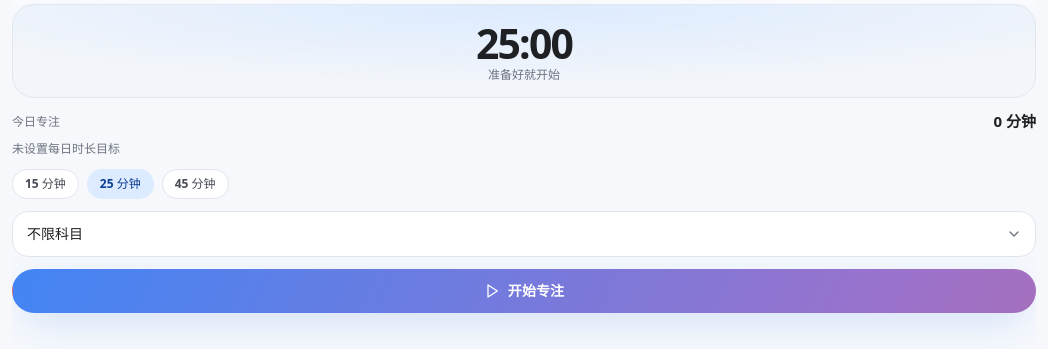
Scenario: FocusTile 记录真实时长 › 没点记录之前一次请求都不发，计时状态落盘
This screenshot has width=1048, height=349.
Click the button "开始专注": x=524, y=291 [12,269,1036,313]
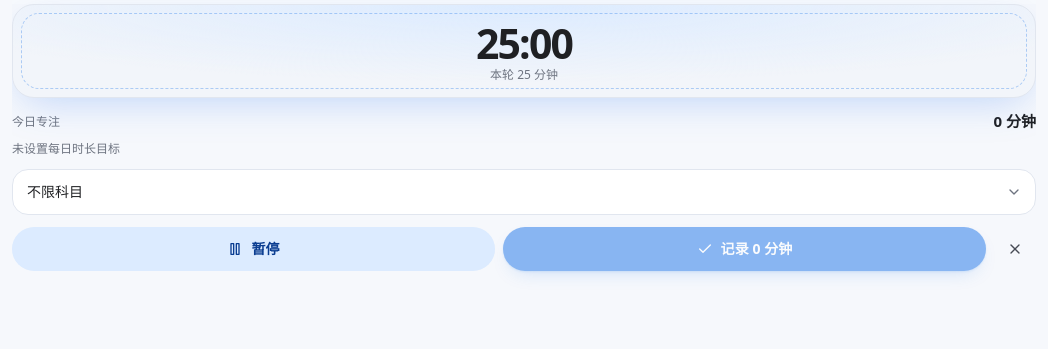
Now the button "记录 0 分钟" is disabled, box [503,227,986,271]
